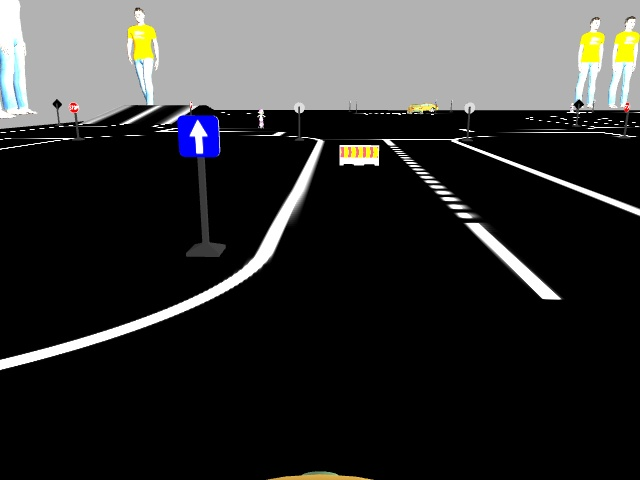ClosedRoadStand: (339, 146, 378, 165)
OneWay: (179, 116, 218, 154)
